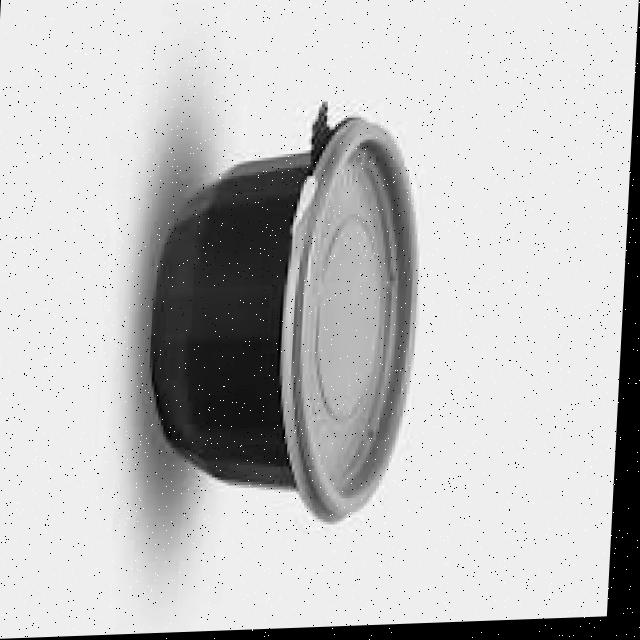disposable: (120, 93, 459, 562)
